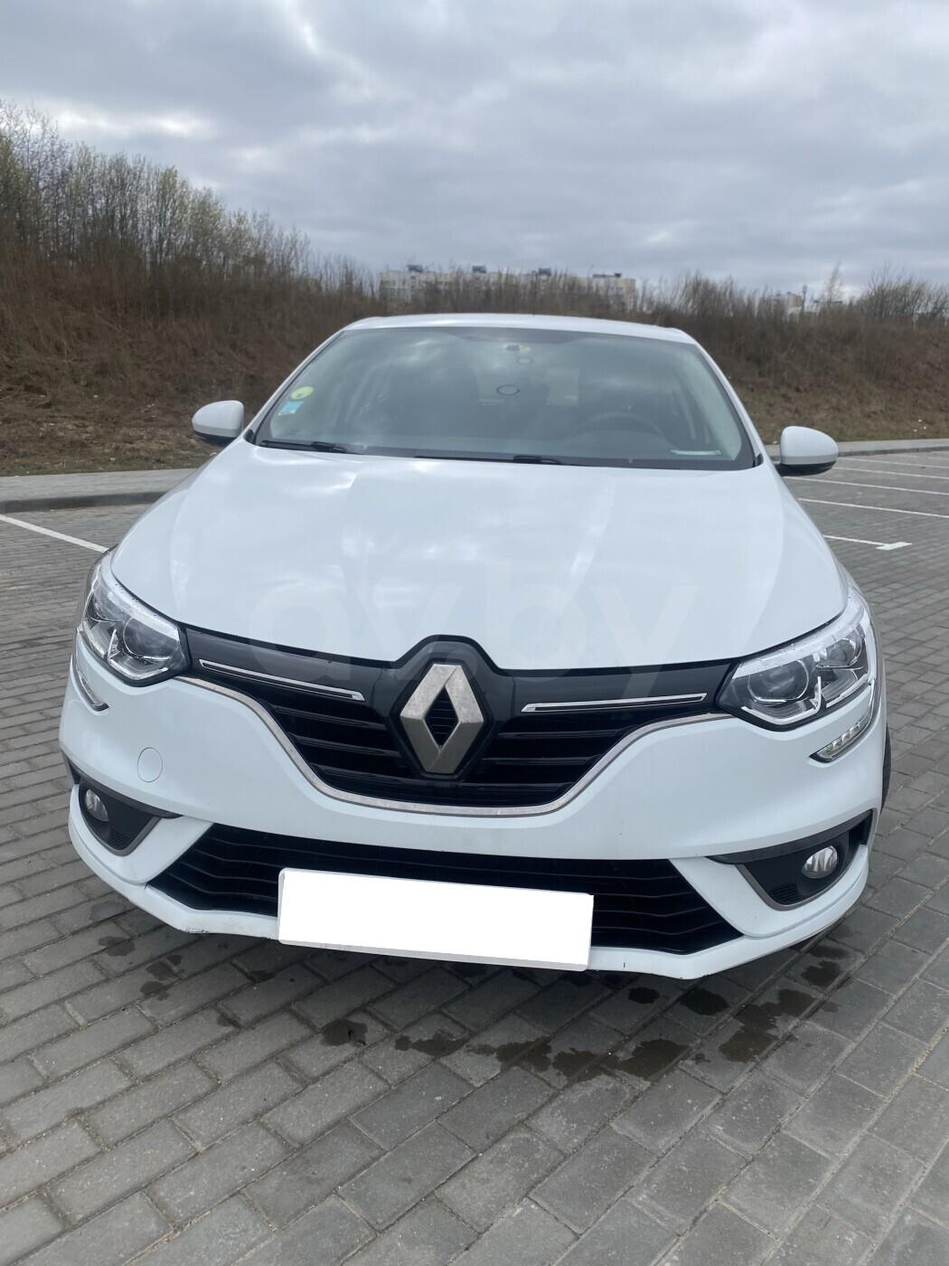Megane_2016-2020: (56, 298, 902, 1024)
